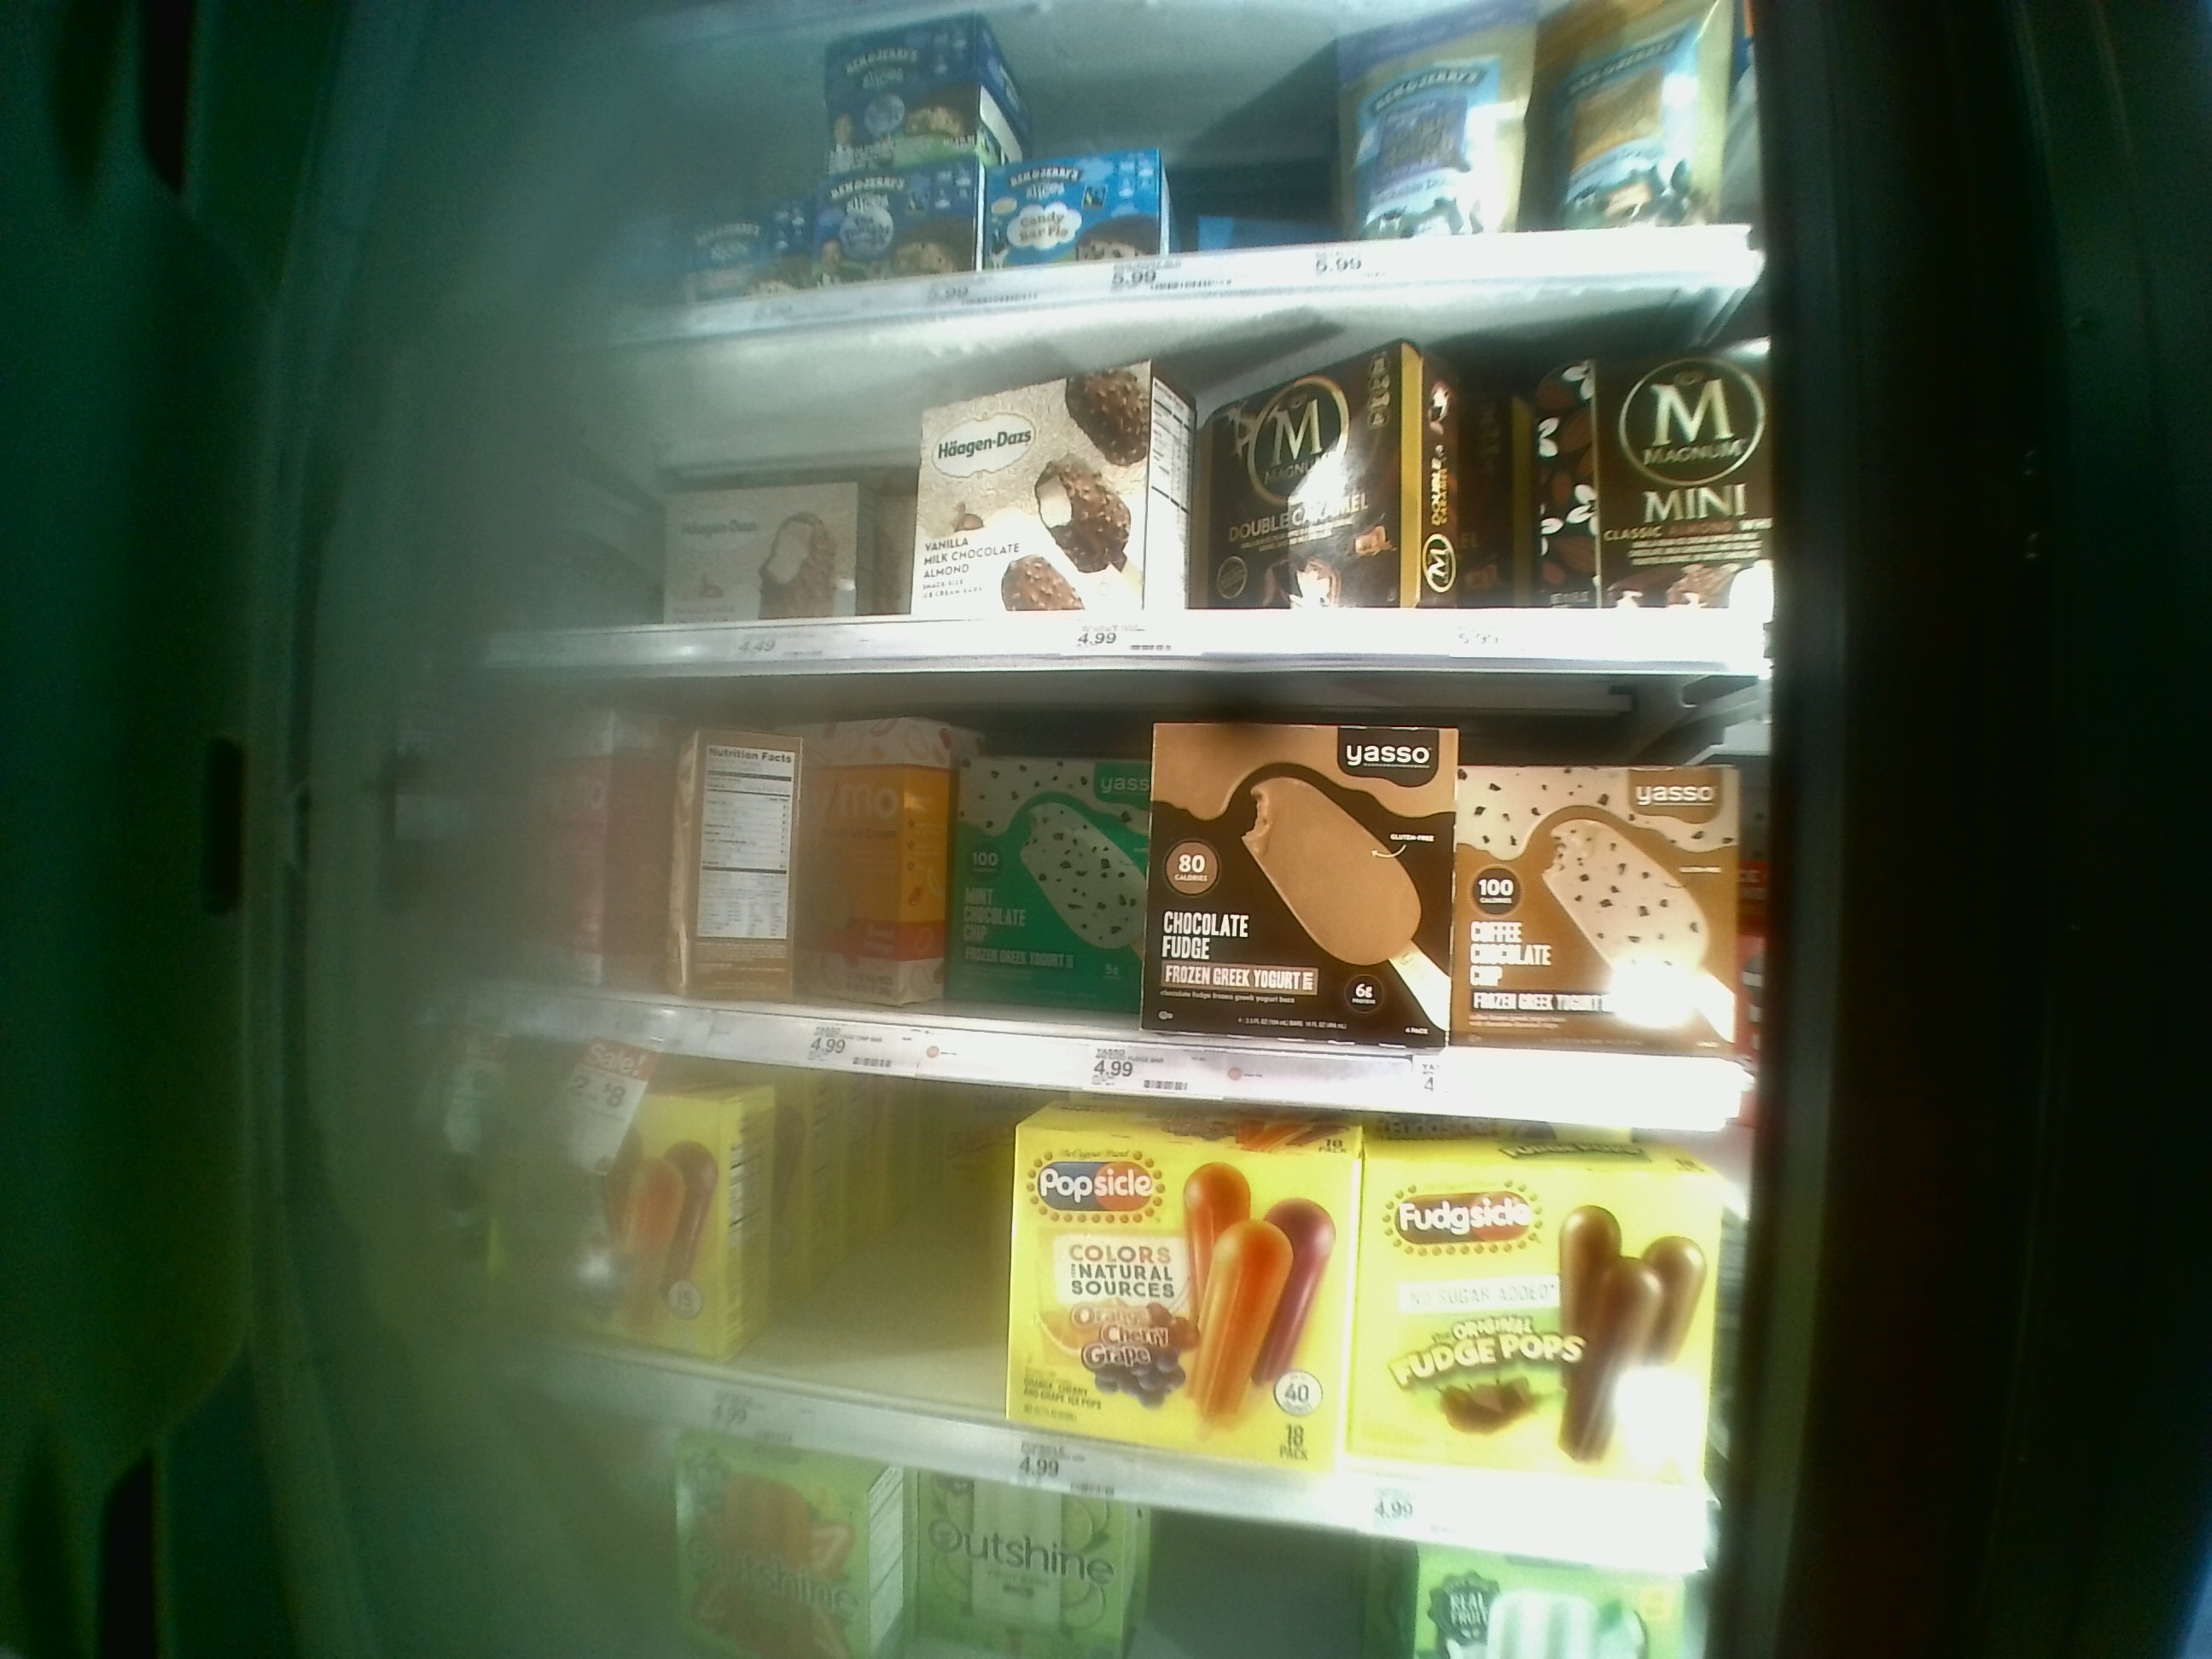shelf: (469, 667, 1743, 1140)
